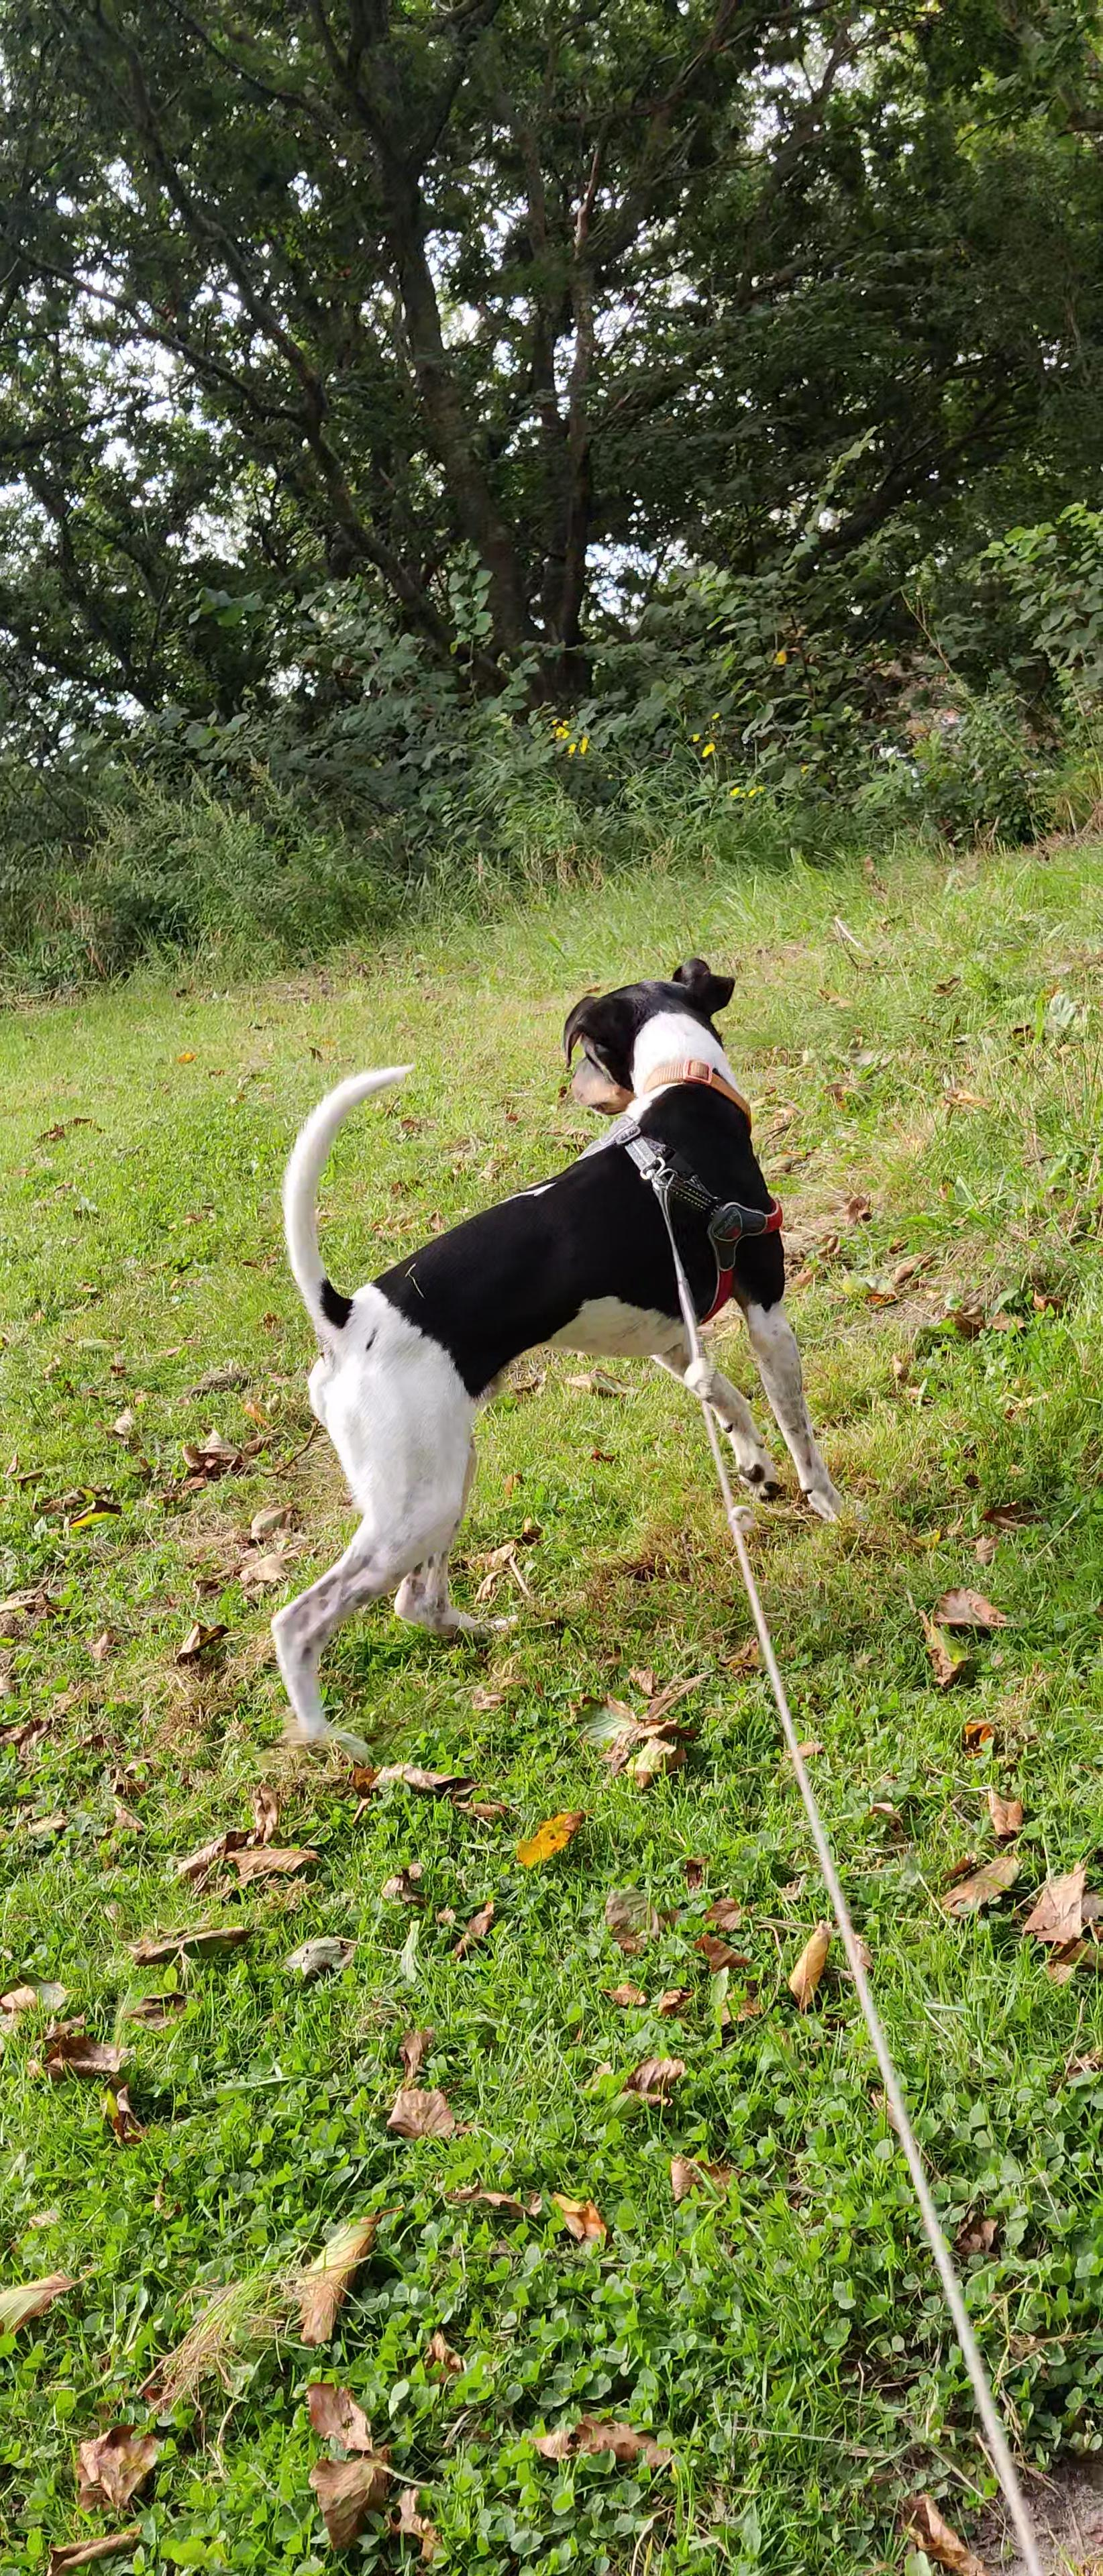Dog: (266, 953, 873, 1753)
